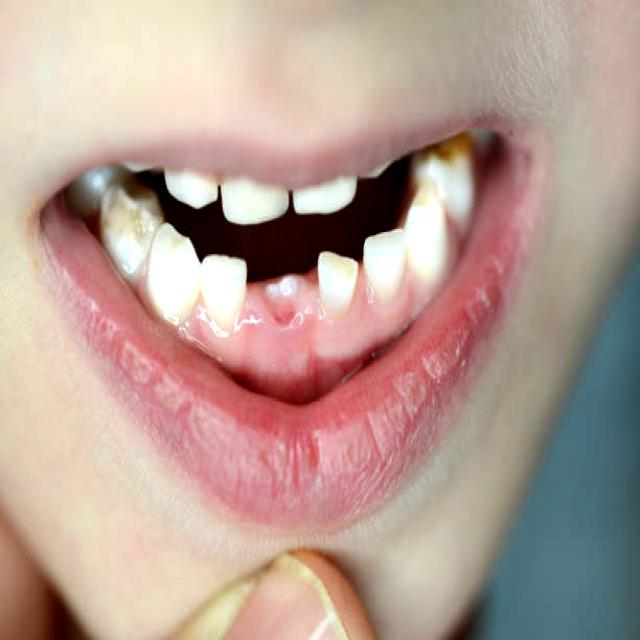hypodontia: (192, 223, 426, 342)
